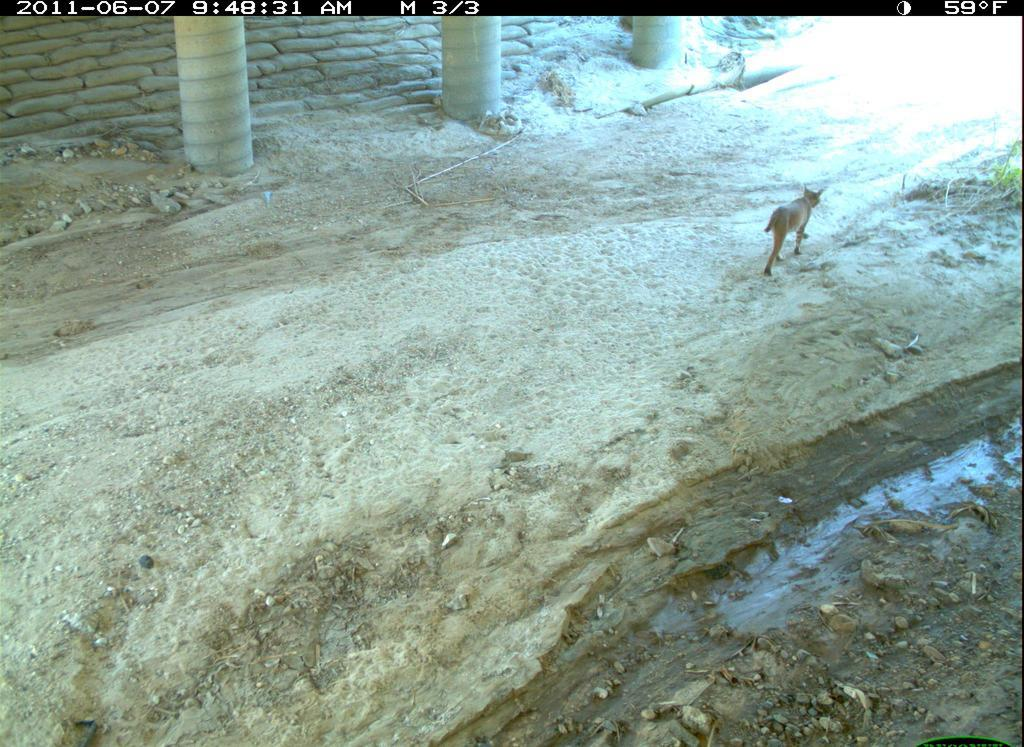bobcat: (761, 178, 827, 281)
